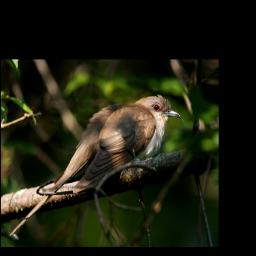Cuckoo: (9, 93, 183, 238)
